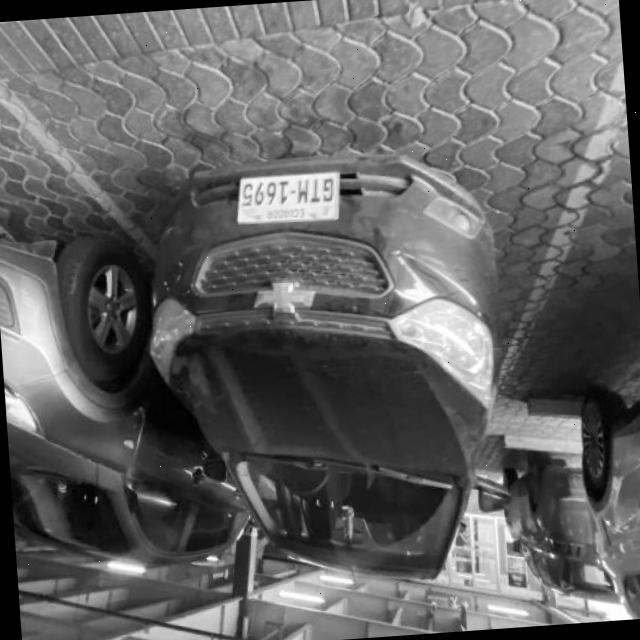Placa: (239, 171, 339, 223)
